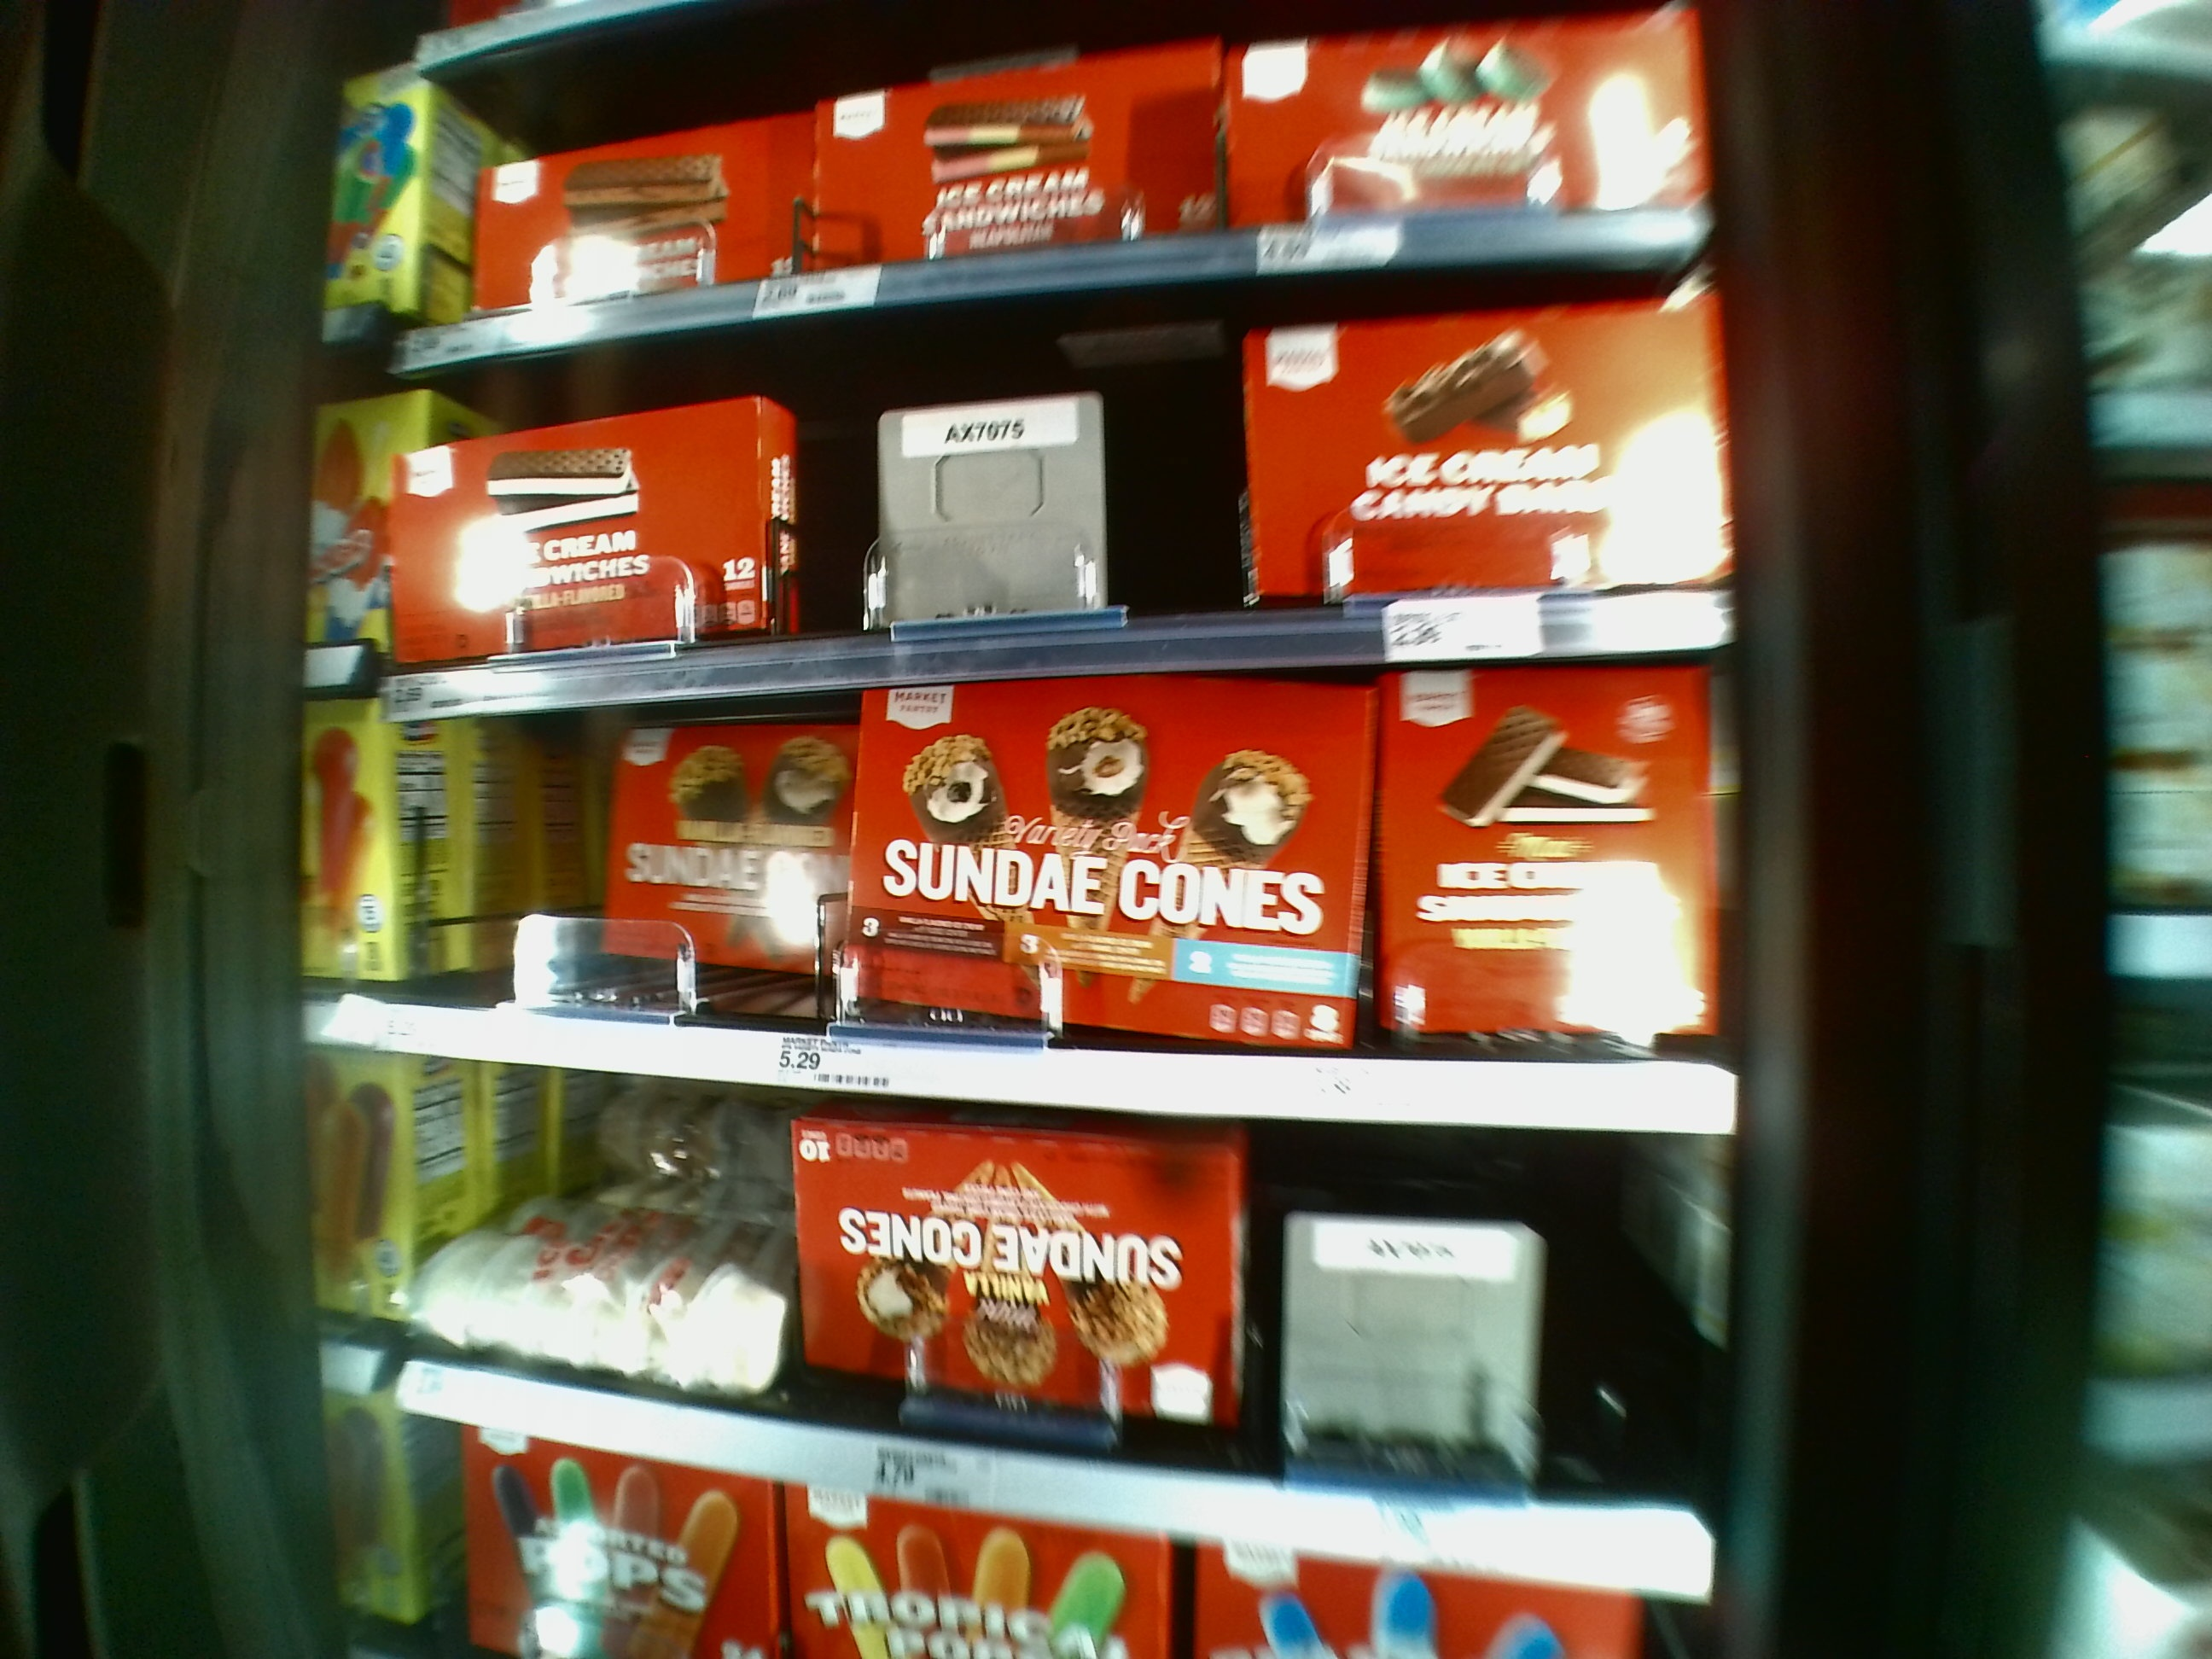shelf: (385, 1079, 1730, 1551), (392, 692, 1735, 1121), (387, 301, 1723, 674)
